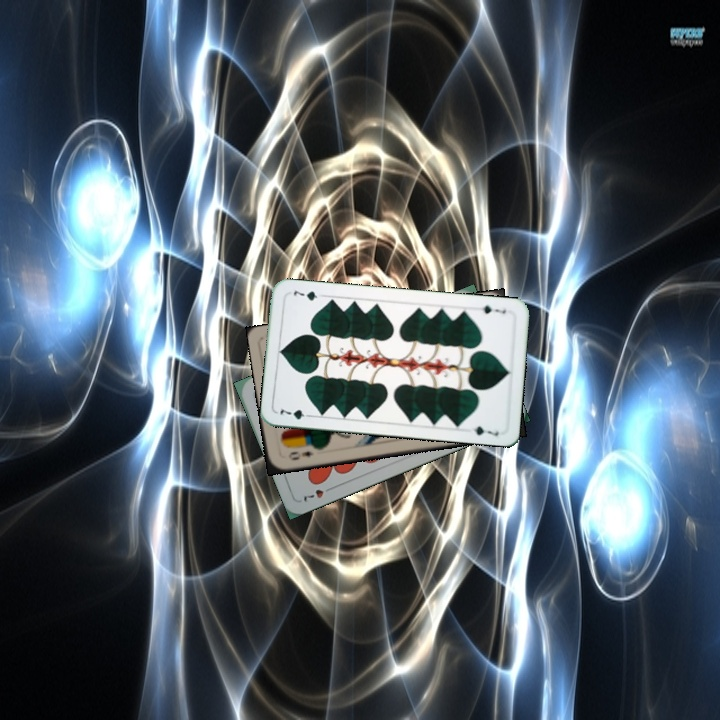EO: (284, 447, 316, 463)
G7: (276, 404, 315, 422), (478, 301, 508, 316)
H7: (299, 482, 336, 505)
